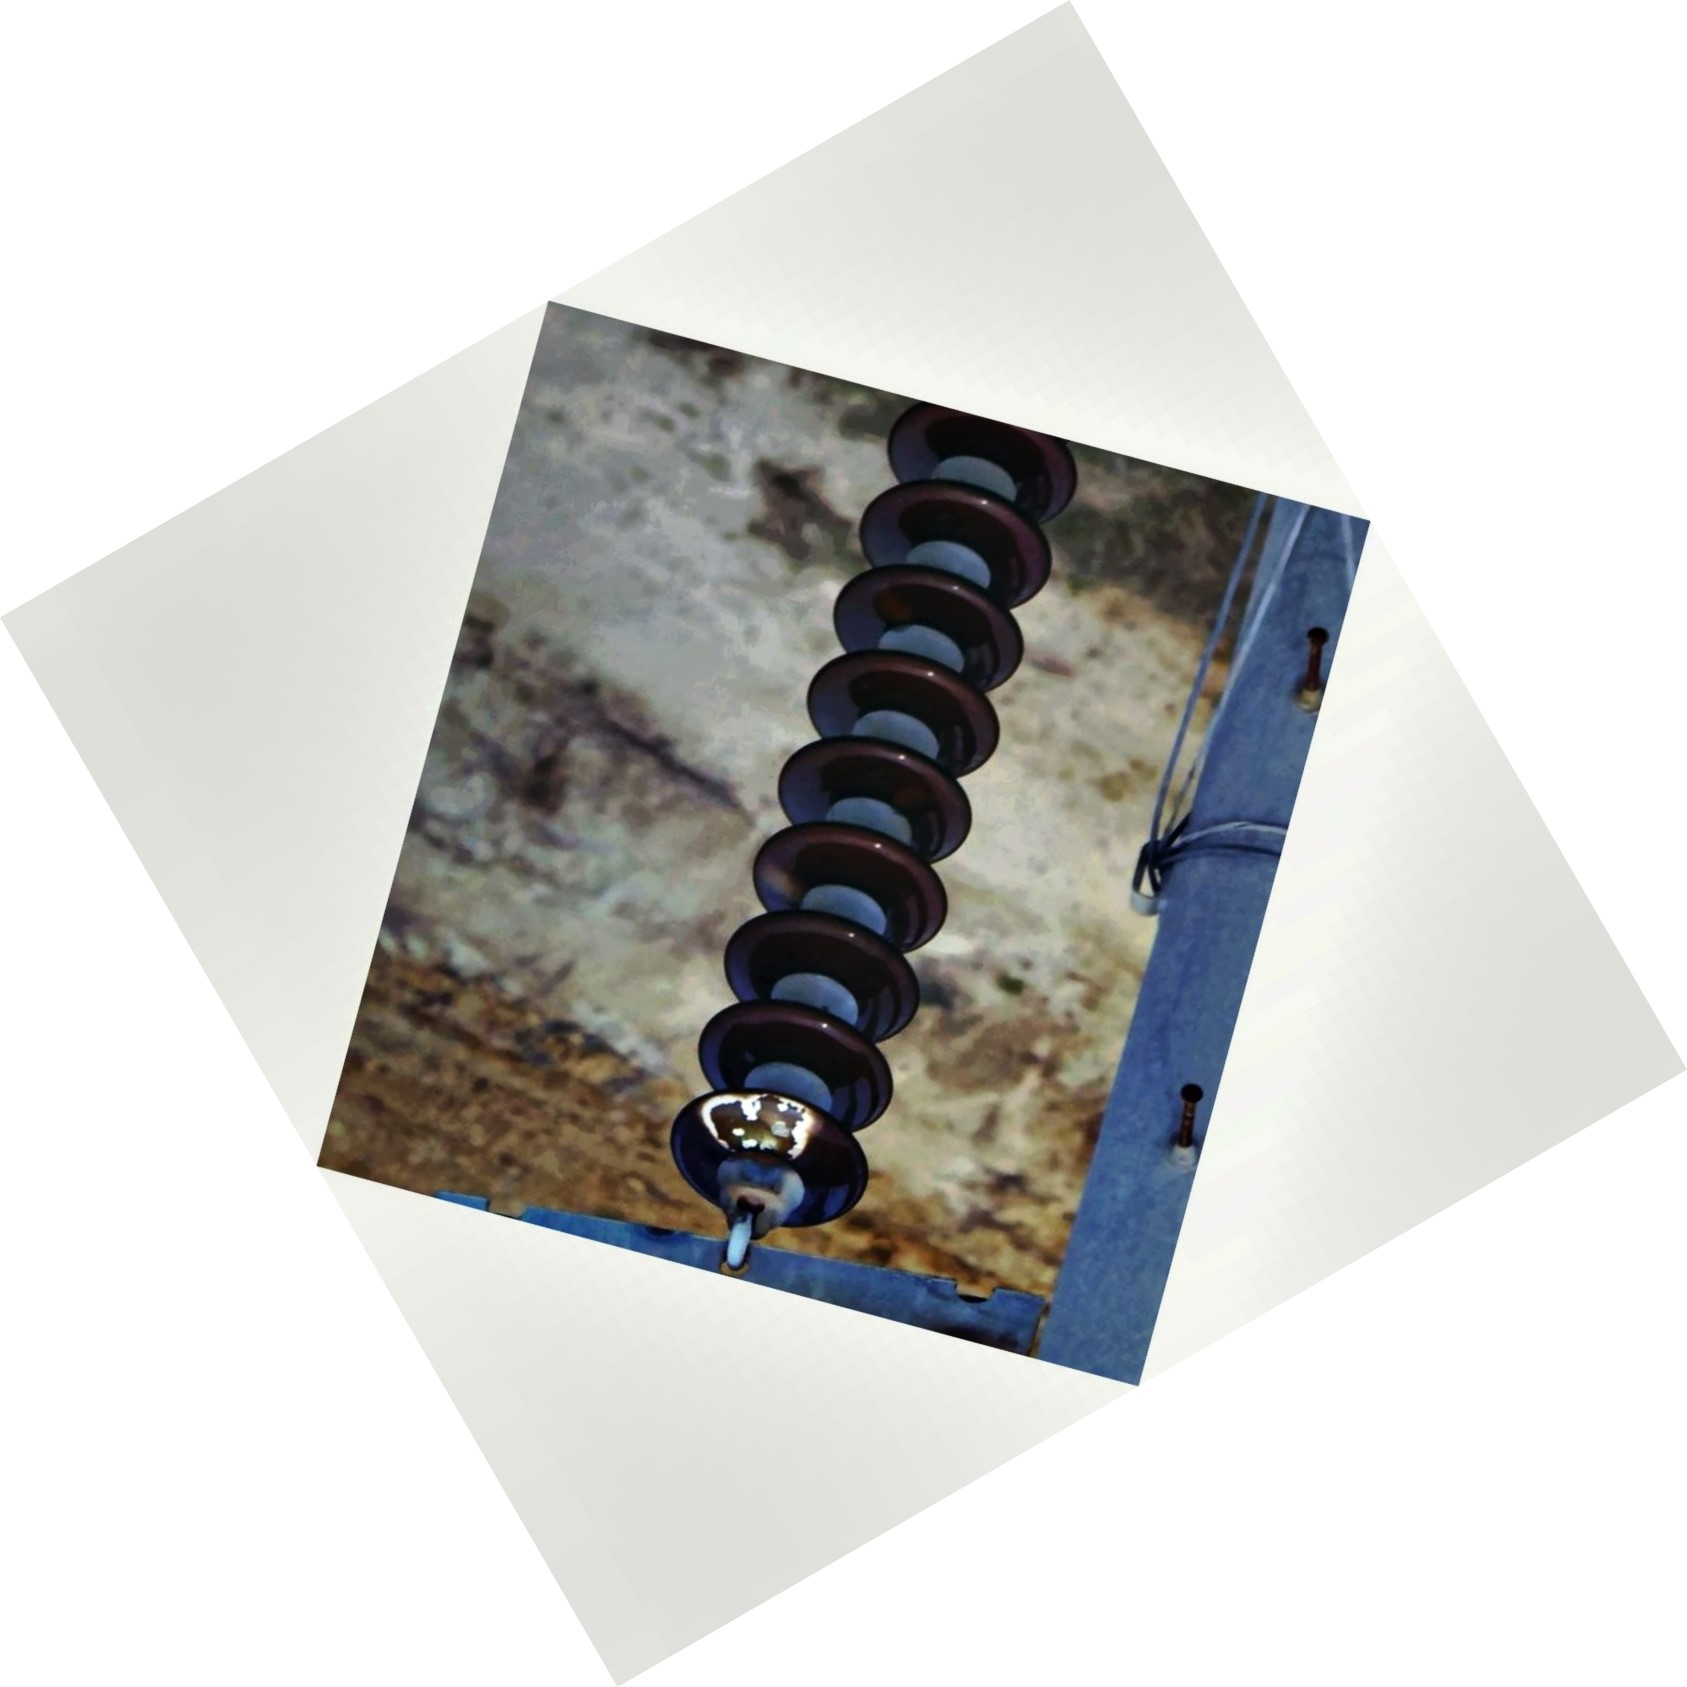Insulator flashover: (657, 1072, 881, 1242)
